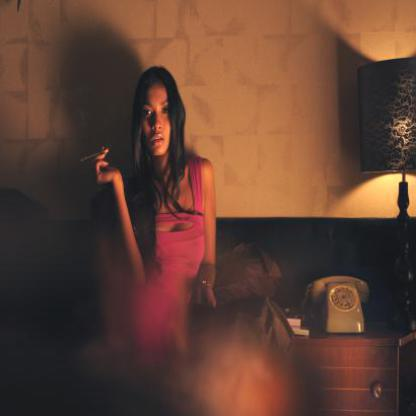cigarette: (80, 150, 105, 164)
person: (113, 62, 212, 320)
